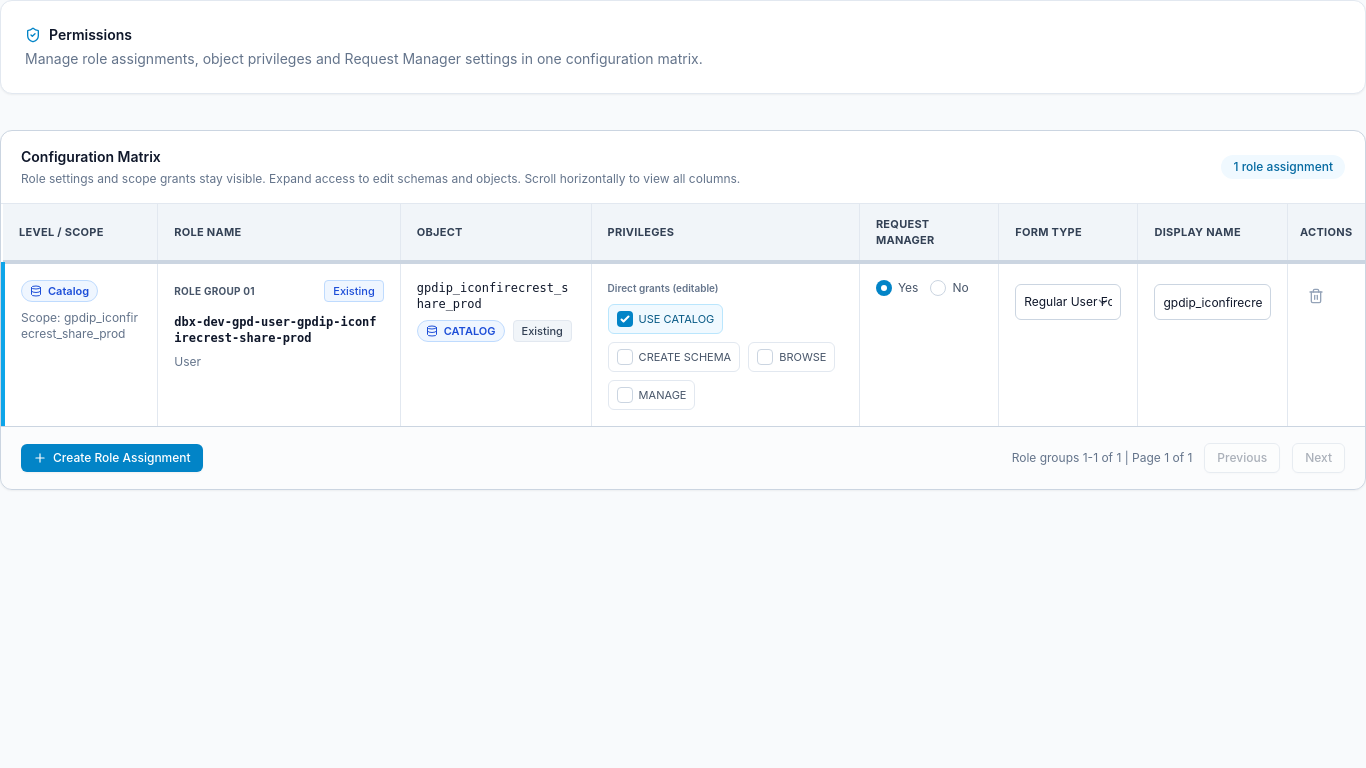
Test: role assignment matrix › validates a read-only long existing name and permits removing its final grant
Click the checkbox named "gpdip_iconfirecrest_share_prod: USE CATALOG" at coordinates (625, 319), box x1=617 y1=311 x2=633 y2=327
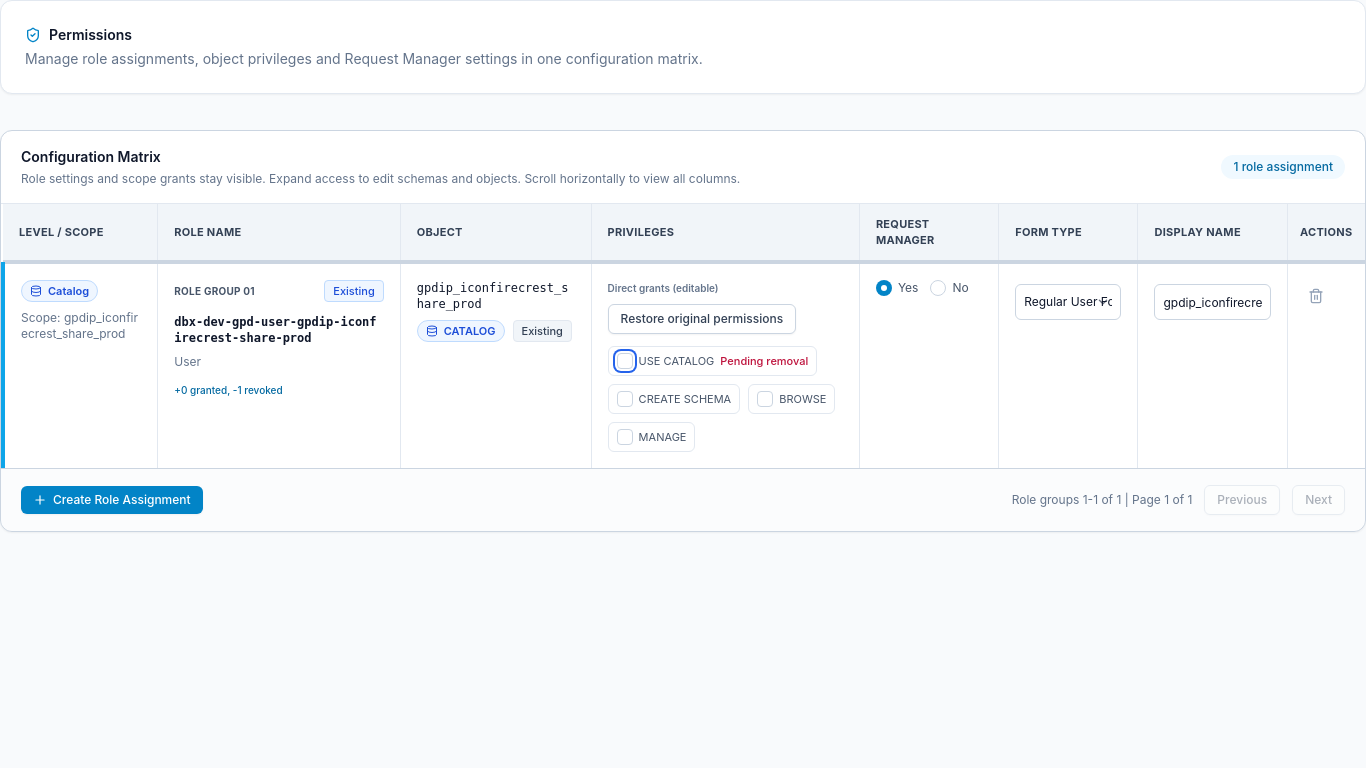
Result: the text "+0 granted, -1 revoked" is shown at x1=174 y1=384 x2=283 y2=396
